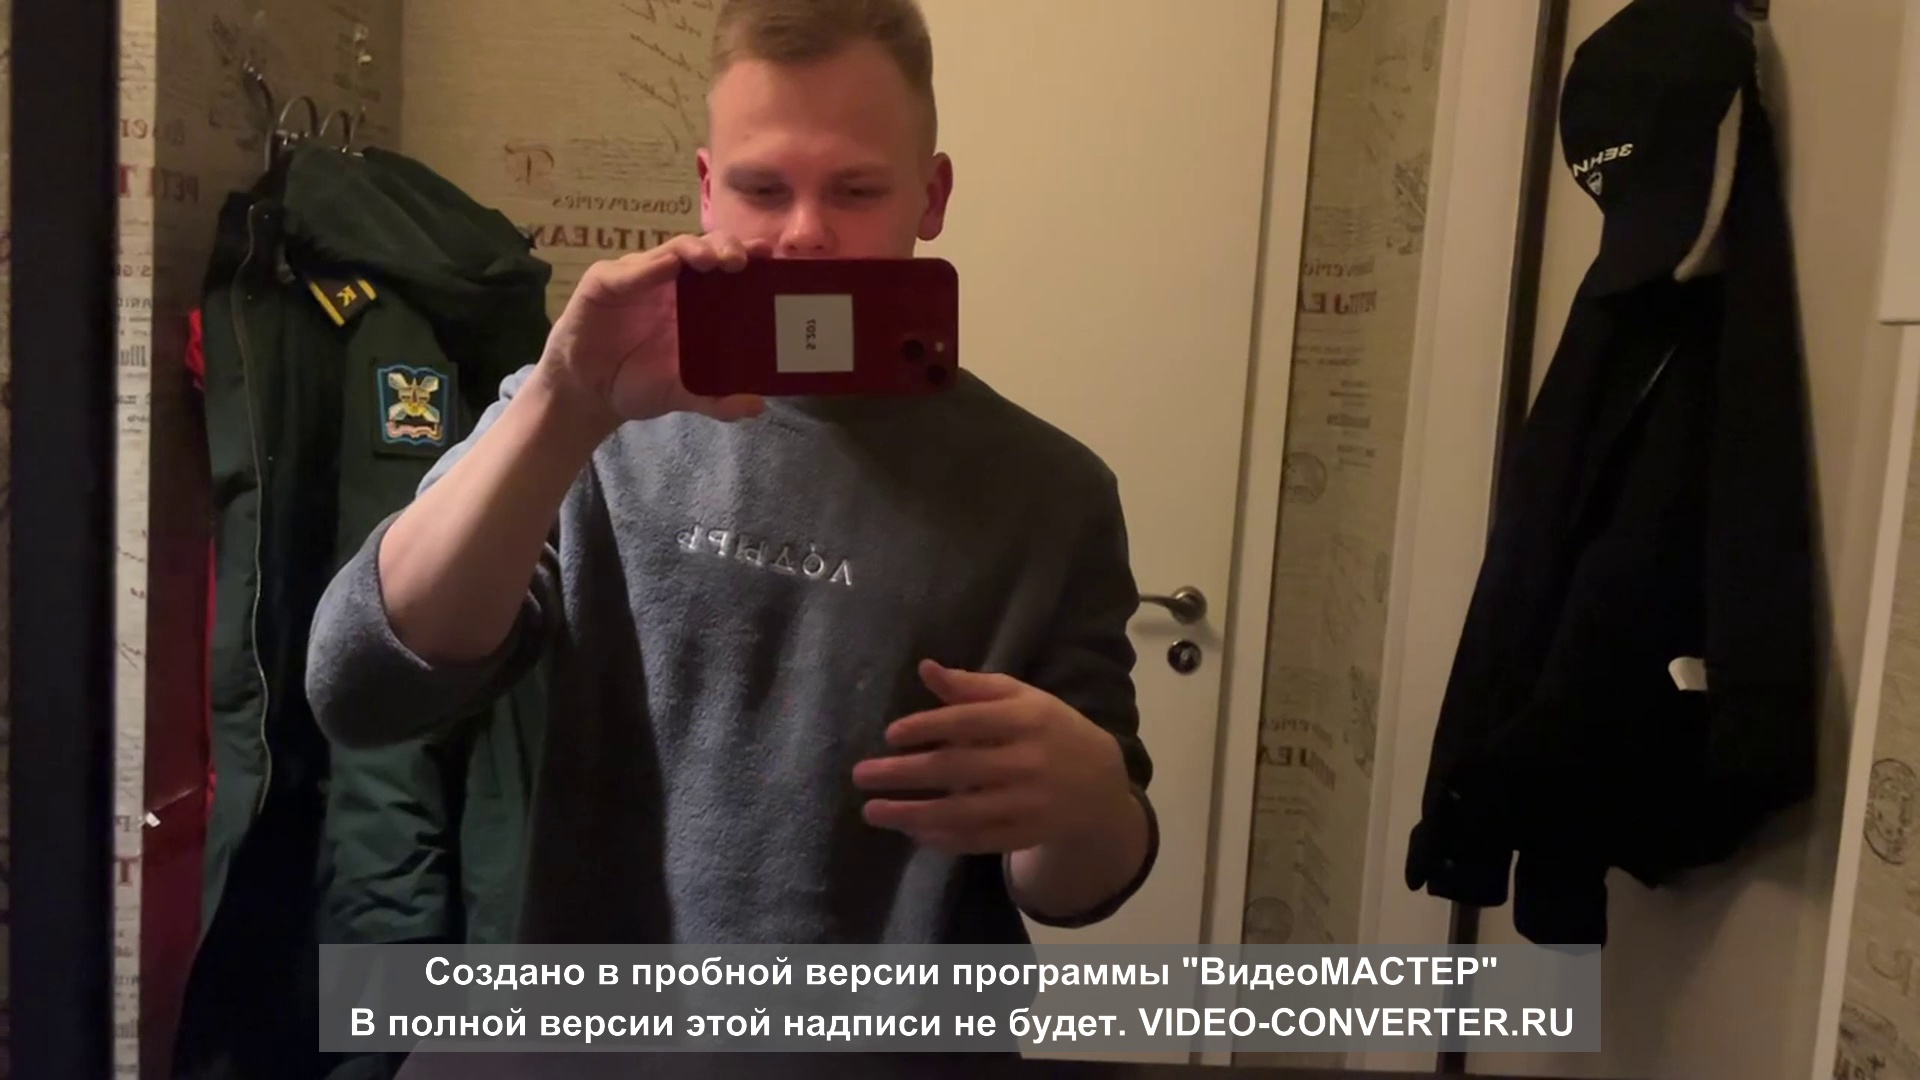Кисть: (855, 657, 1131, 856)
